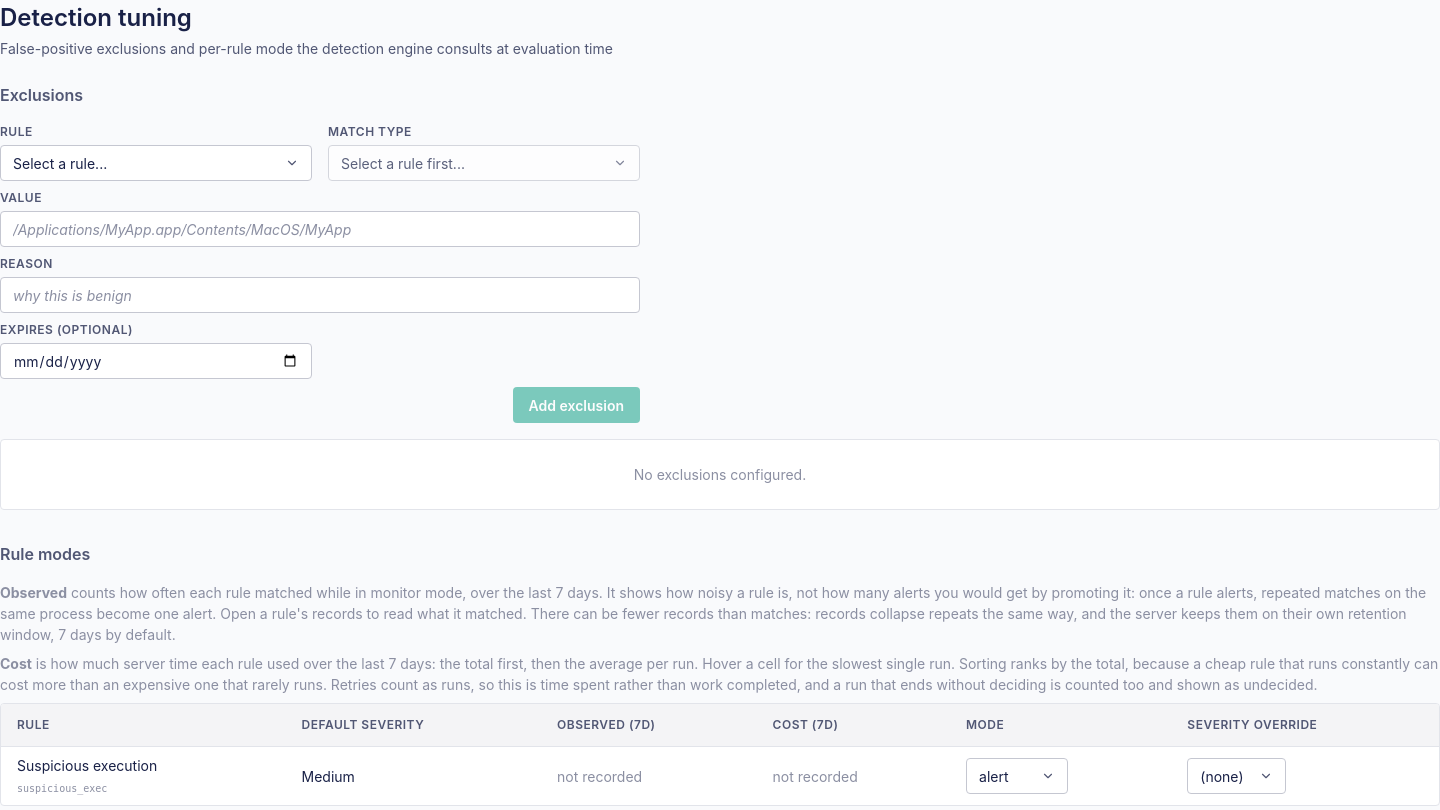
Test: DetectionConfig › explains the form for a signing_id value, and says nothing for a type that has none
Check: the text "No exclusions configured." is shown, box [0,439,1439,510]
Select "Suspicious execution" in the dropdown labelled "Rule": (156, 163) [0,145,312,181]
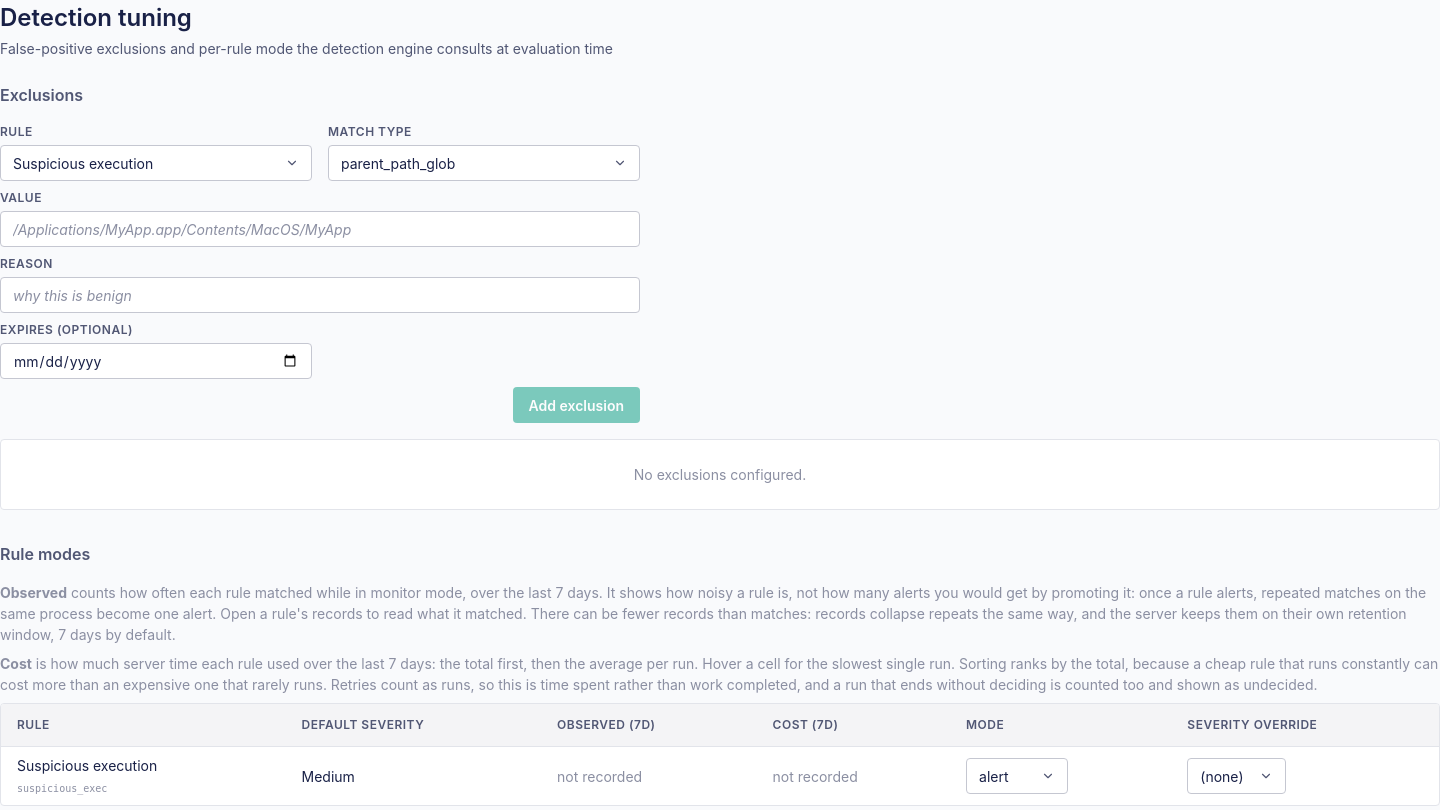
Select "signing_id" in the dropdown labelled "Match type": (484, 163) [328,145,640,181]
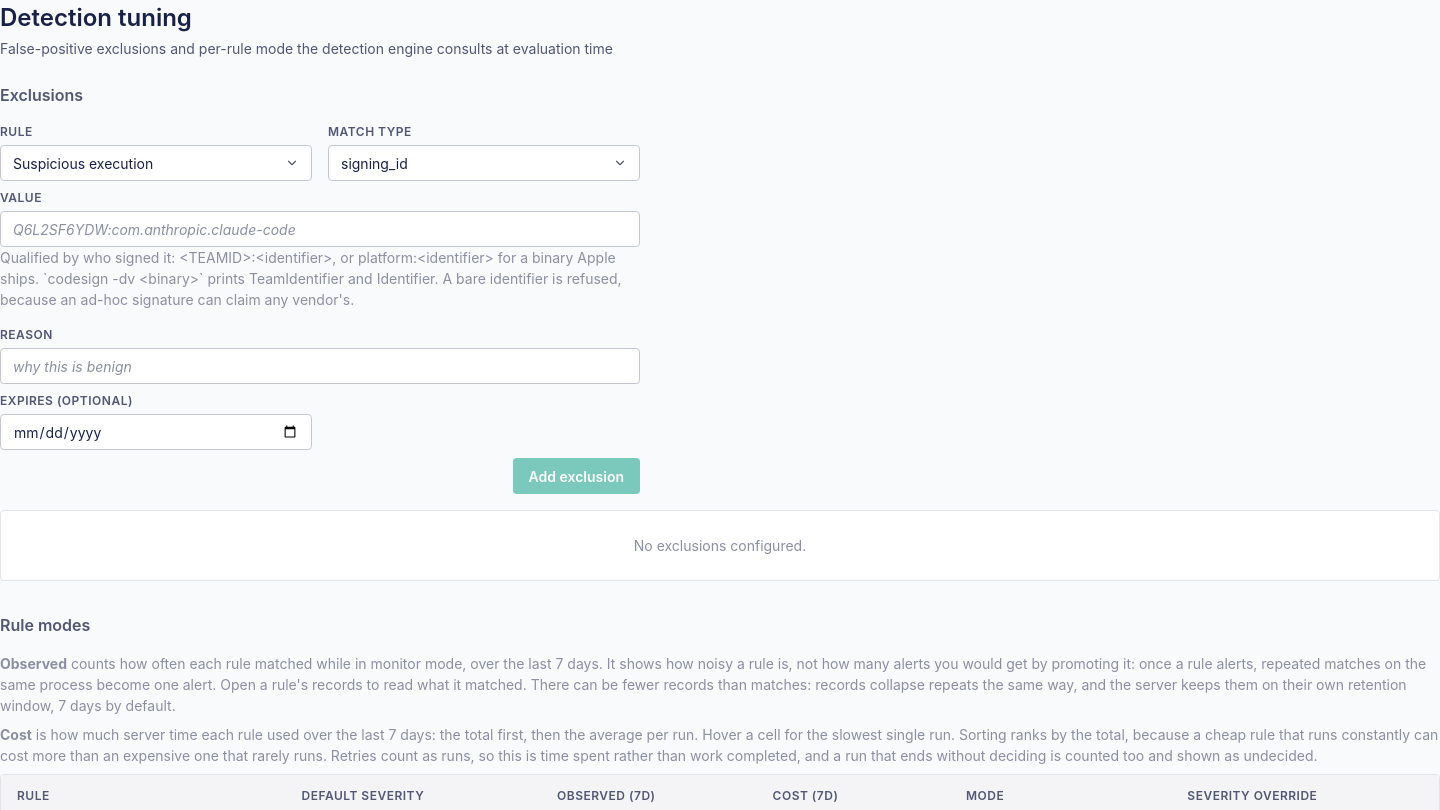
Check: the text "A bare identifier is refused" is shown, box [0,249,622,308]
// A glob has no shape to explain, so nothing is shown and the generic placeholder returns.
Select "parent_path_glob" in the dropdown labelled "Match type": (484, 163) [328,145,640,181]
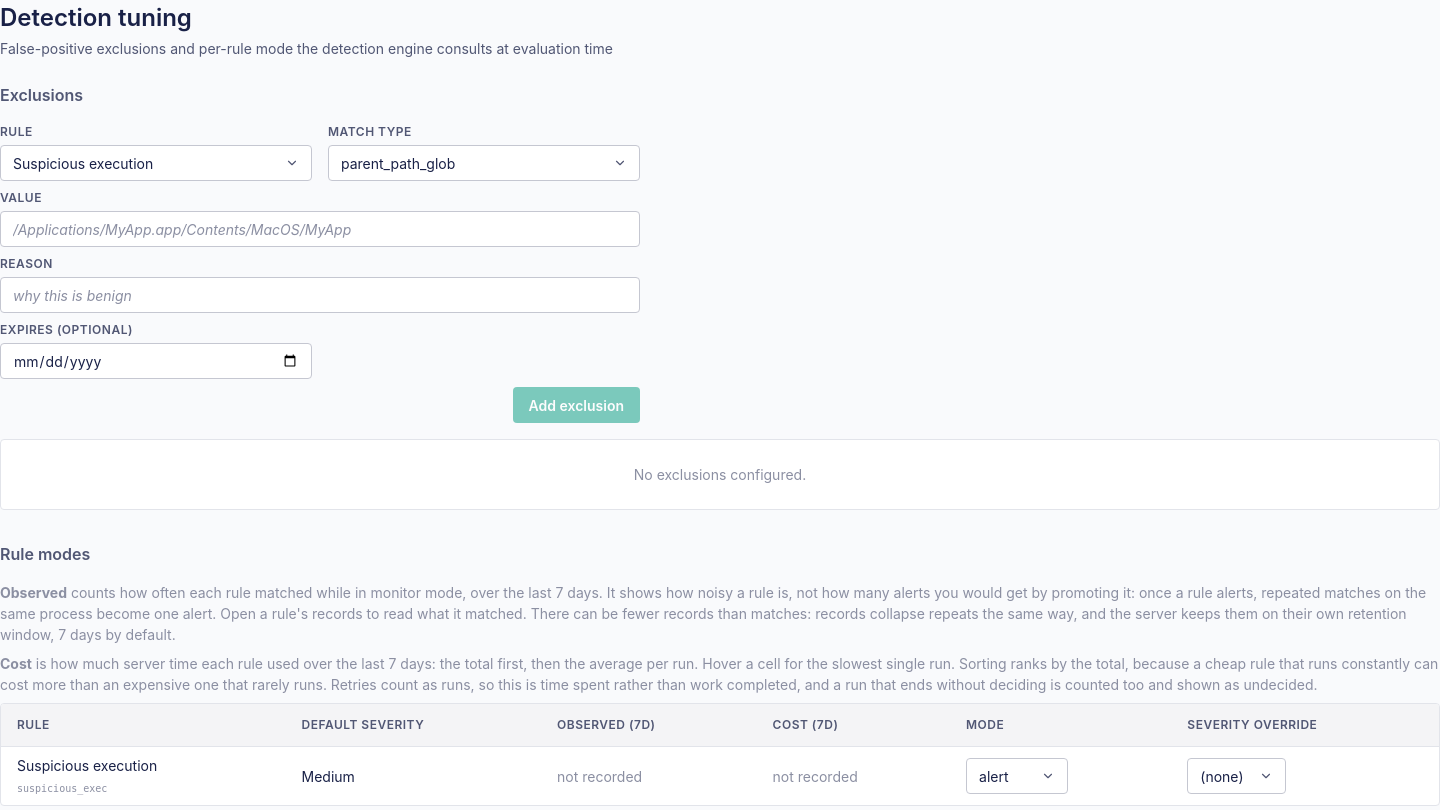
Check: the text "Qualified by who signed it" is gone
